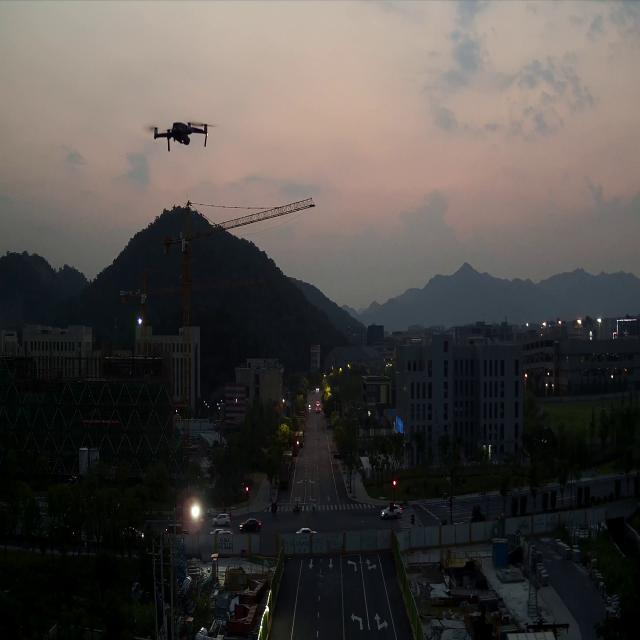UAV: (151, 121, 210, 154)
